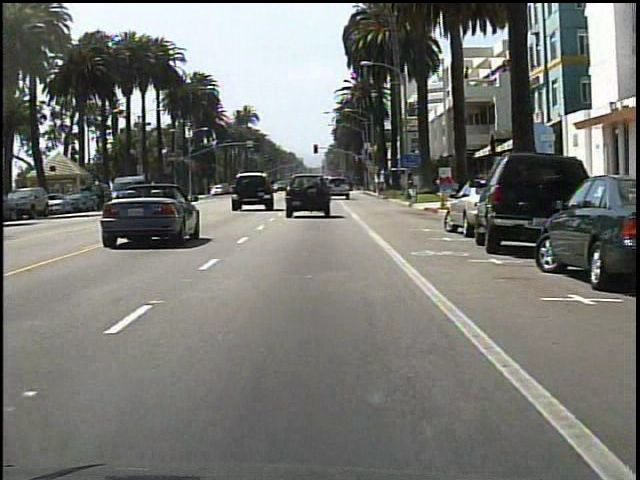person: (91, 178, 111, 214)
